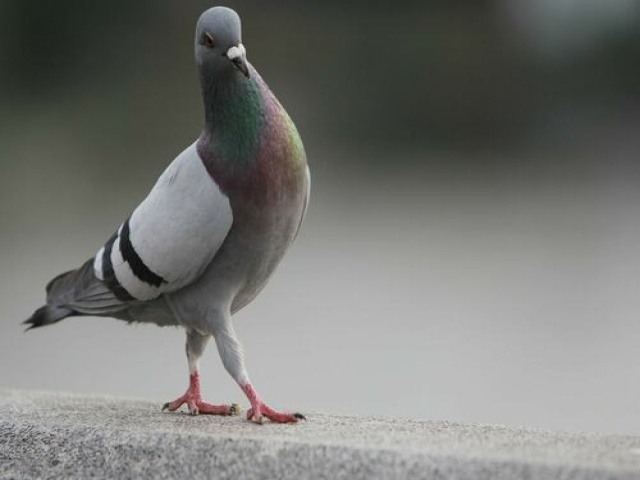Pigeon: (29, 4, 318, 424)
